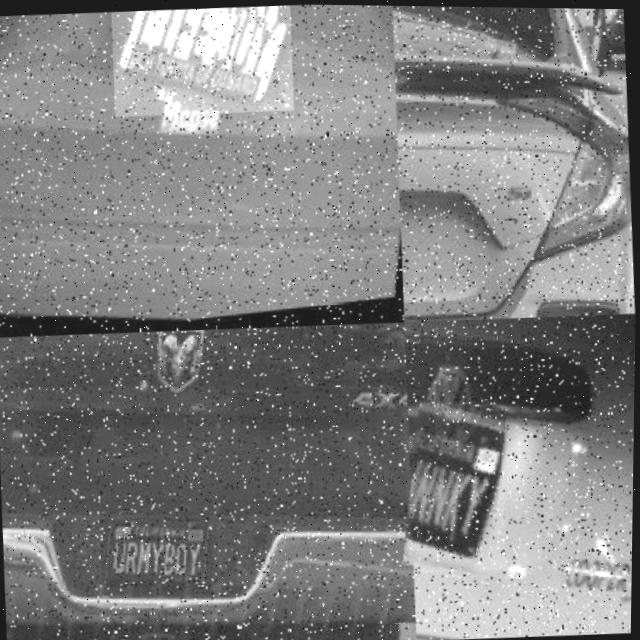LicensePlate: (110, 2, 295, 118), (401, 397, 510, 573), (105, 519, 213, 594)
